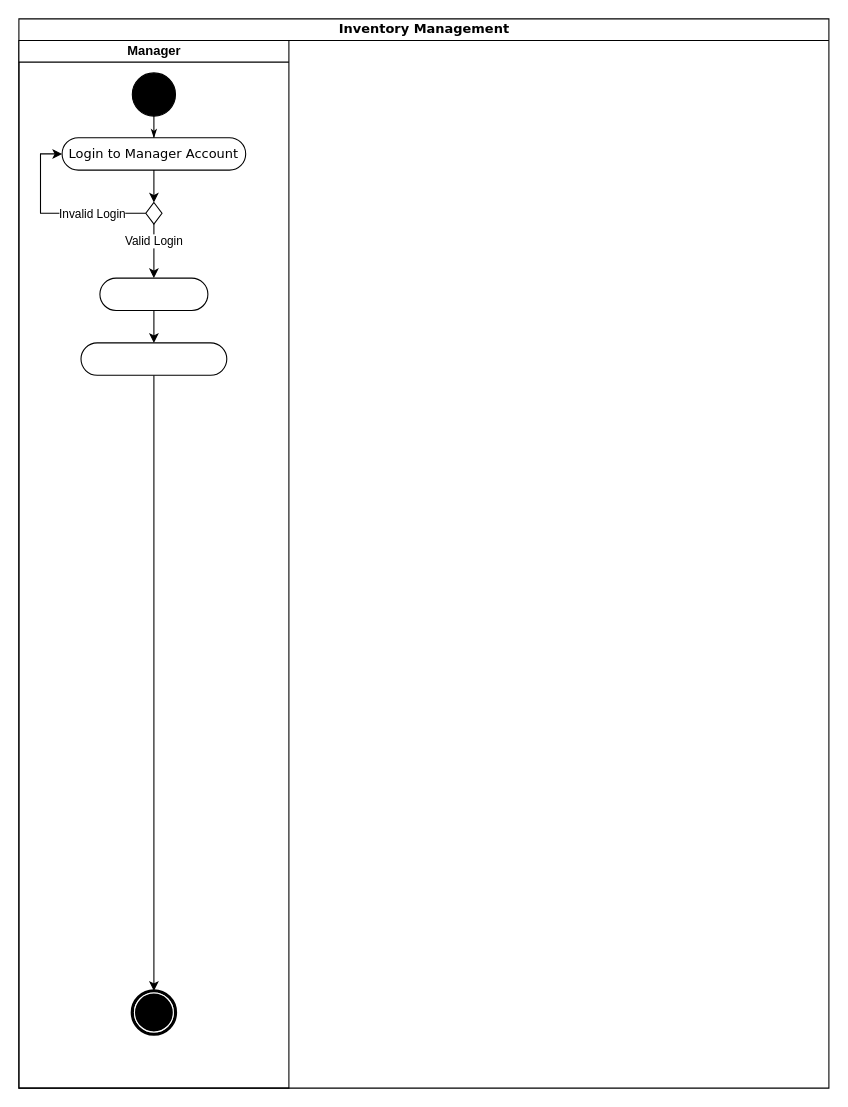
Image size: 848x1107. Some labels were removed from this diagram. The centre of each missing label's shape, as x and y in pixels:
"Update Inventory" belongs at point 153,358.
"View Inventory" belongs at point 153,293.
